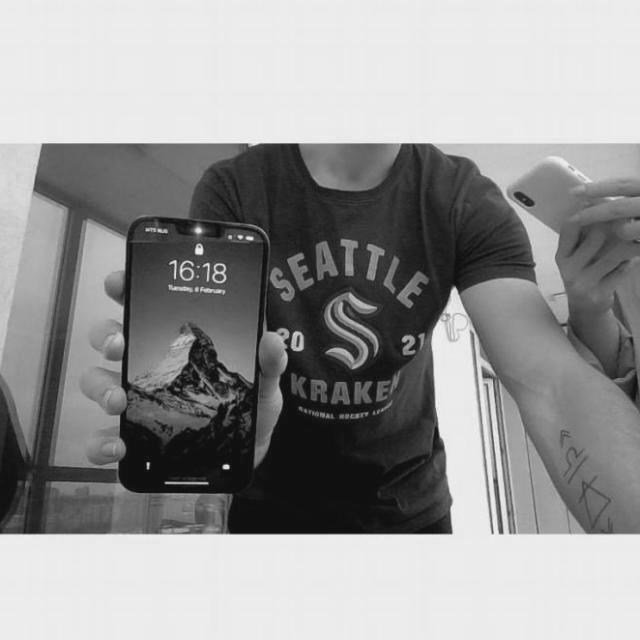fake: (108, 212, 276, 506)
